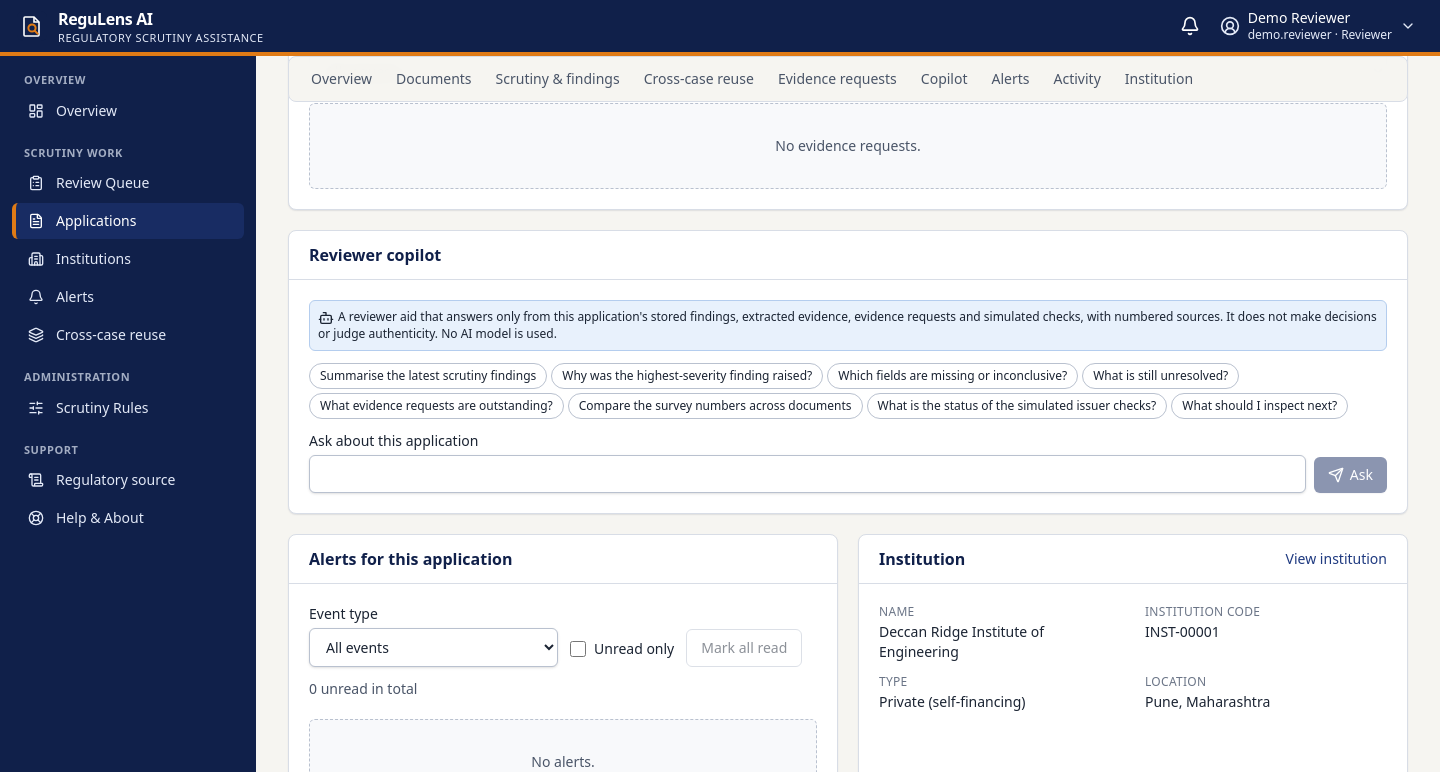
Test: Copilot › shows ungrounded answers and failures honestly
(page scrolled)
Click the button "What should I inspect next?" at (1260, 406), box [1171,393,1348,419]
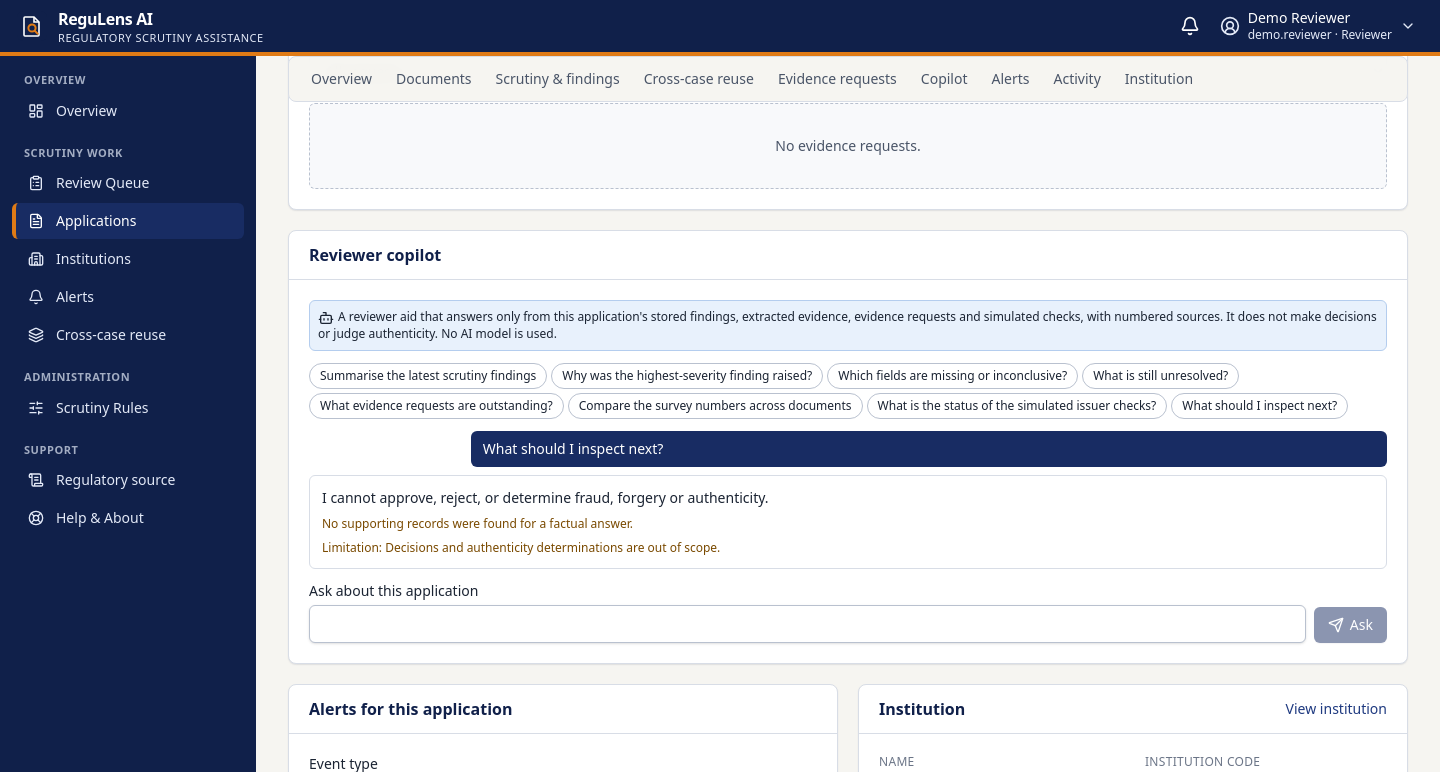
Expected: the text "No supporting records were found for a factual answer." is shown, [322,515,633,532]
Expected: the text "Limitation: Decisions" is shown, [322,539,720,556]
Click the button "What is still unresolved?" at (1161, 376), box [1082,363,1239,389]
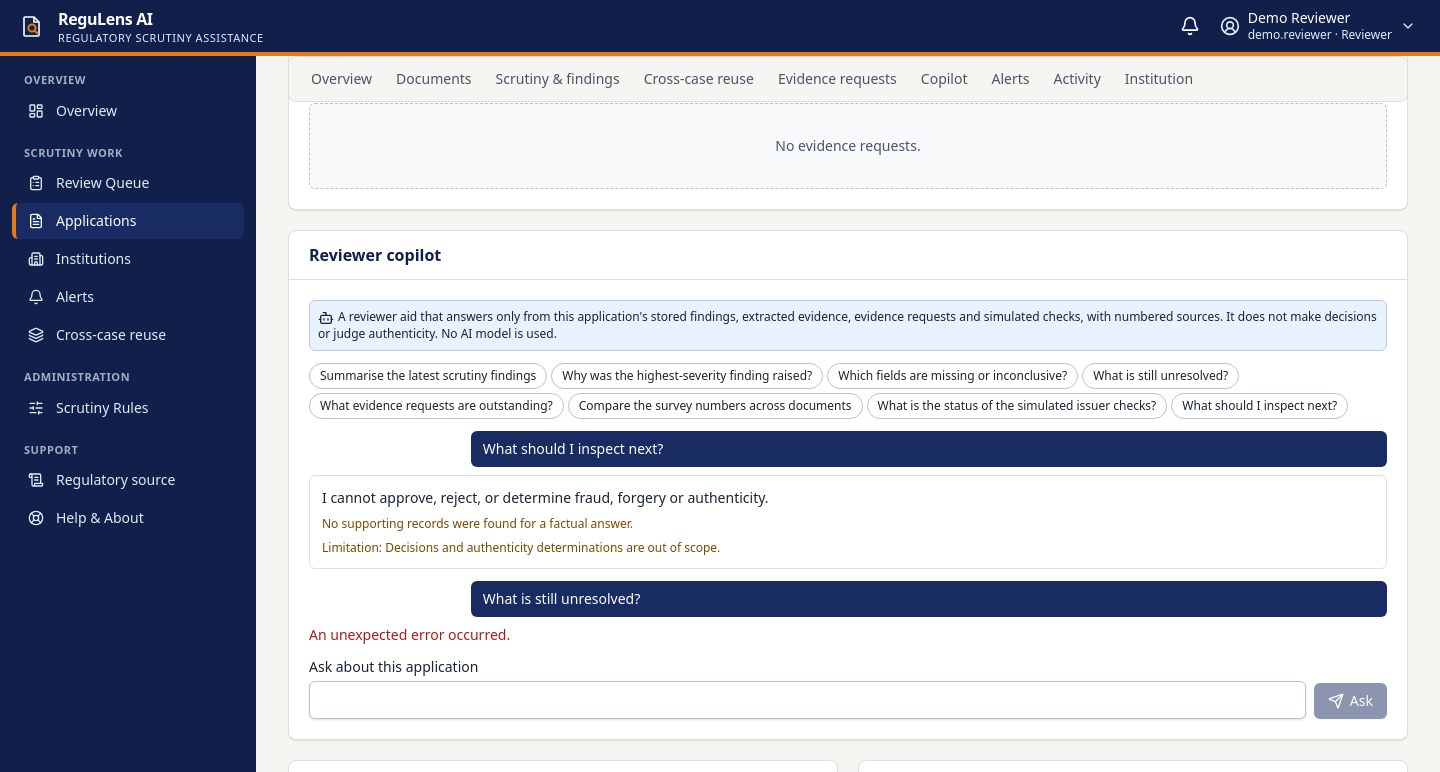
Expected: the text "An unexpected error occurred." is shown, [309,625,510,644]
